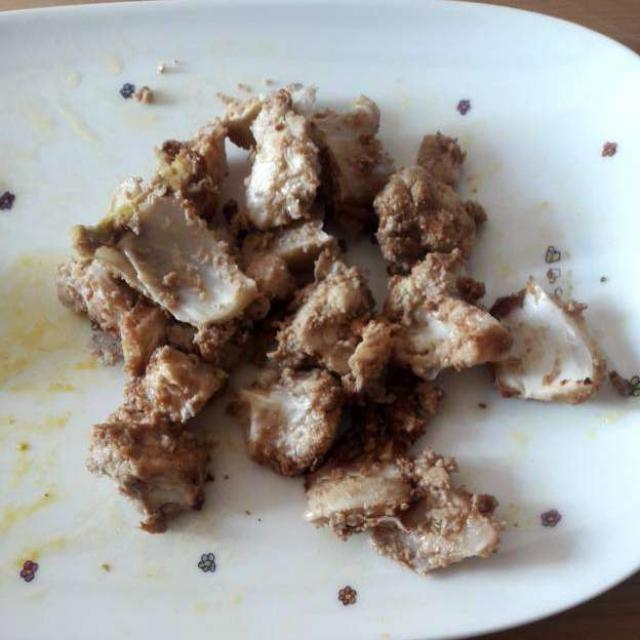cauliflower: (84, 106, 602, 570)
